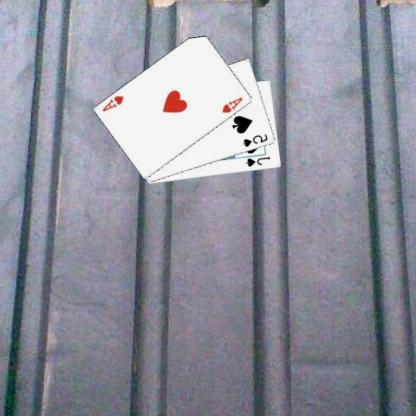5S: (243, 132, 271, 148)
AH: (101, 93, 127, 113), (221, 95, 246, 114)
JS: (245, 154, 273, 168)
